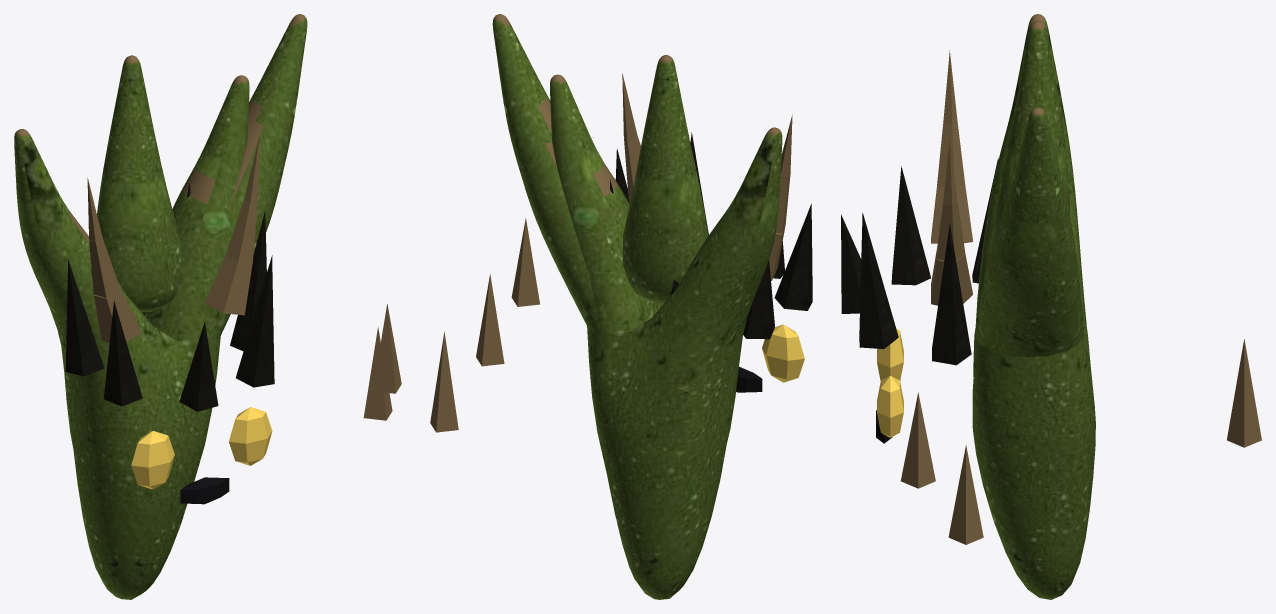
File: mon_sp_seed_giant.glb
The picture shows the model from 3 angles, left to right: view 1: azimuth 30°, elevation 25°; view 2: azimuth 150°, elevation 25°; view 3: azimuth 270°, elevation 25°; orthographic projection. The views are drawn at different scales.
Visible parts, largest first — view 1: mon_sp_seed_giant; view 2: mon_sp_seed_giant; view 3: mon_sp_seed_giant.
Part boxes in pixels (x1=…): mon_sp_seed_giant: x1=14, y1=14, x2=401, y2=599; mon_sp_seed_giant: x1=430, y1=14, x2=812, y2=599; mon_sp_seed_giant: x1=841, y1=14, x2=1261, y2=599.
Size of the model in its own units: 1.69 by 2.58 by 1.7.
Materials: 5 (5 with a texture image).
